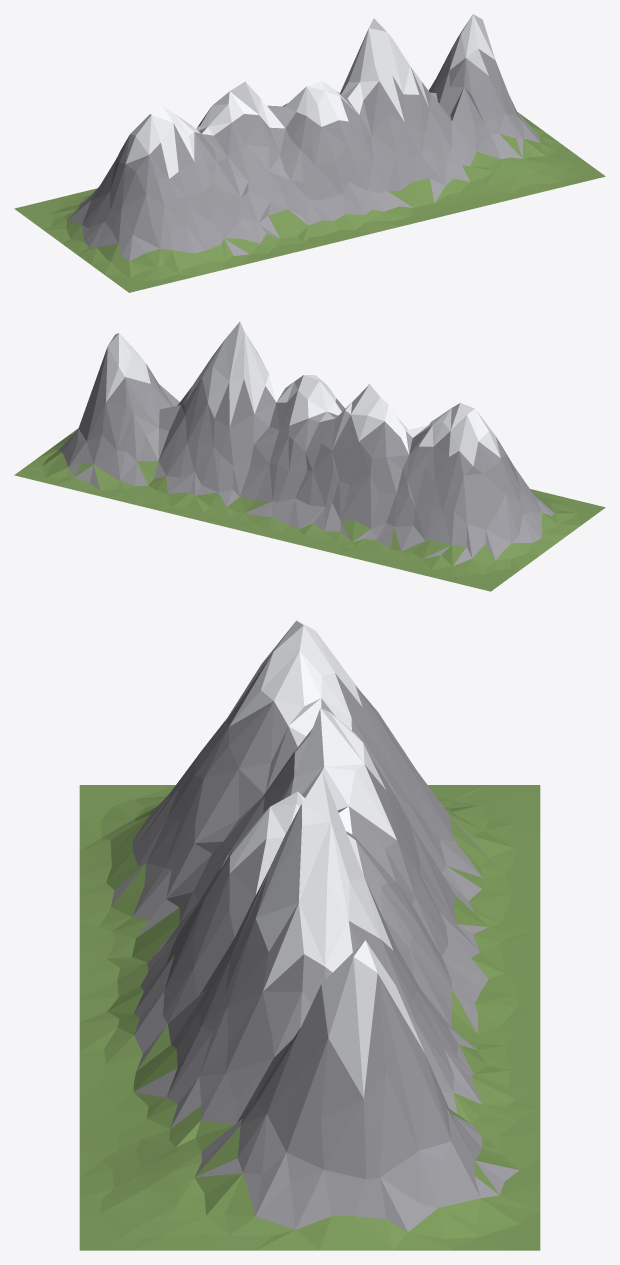
Rendered from RangeC.fbx.
3 views of the same model, one above another, from view 1: azimuth 30°, elevation 25°; view 2: azimuth 150°, elevation 25°; view 3: azimuth 270°, elevation 25° (orthographic). The views are drawn at different scales.
Parts seen in each view (by area): view 1: RangeC_Rock, RangeC_Grass, RangeC_Snow; view 2: RangeC_Rock, RangeC_Grass, RangeC_Snow; view 3: RangeC_Rock, RangeC_Grass, RangeC_Snow.
Part boxes in pixels (x1,y1,x2,y2): RangeC_Rock: (67, 47, 540, 261); RangeC_Grass: (14, 112, 605, 292); RangeC_Snow: (125, 14, 495, 178); RangeC_Rock: (58, 347, 554, 565); RangeC_Grass: (14, 428, 605, 591); RangeC_Snow: (105, 322, 500, 465); RangeC_Rock: (111, 655, 519, 1231); RangeC_Grass: (79, 785, 540, 1250); RangeC_Snow: (225, 620, 424, 1098).
Bounding box in the file's own units: 1100 × 344 × 460.
